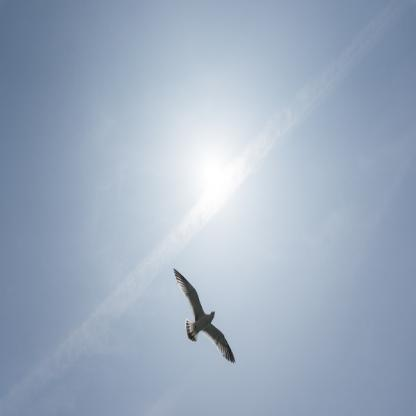bird: (166, 261, 244, 370)
